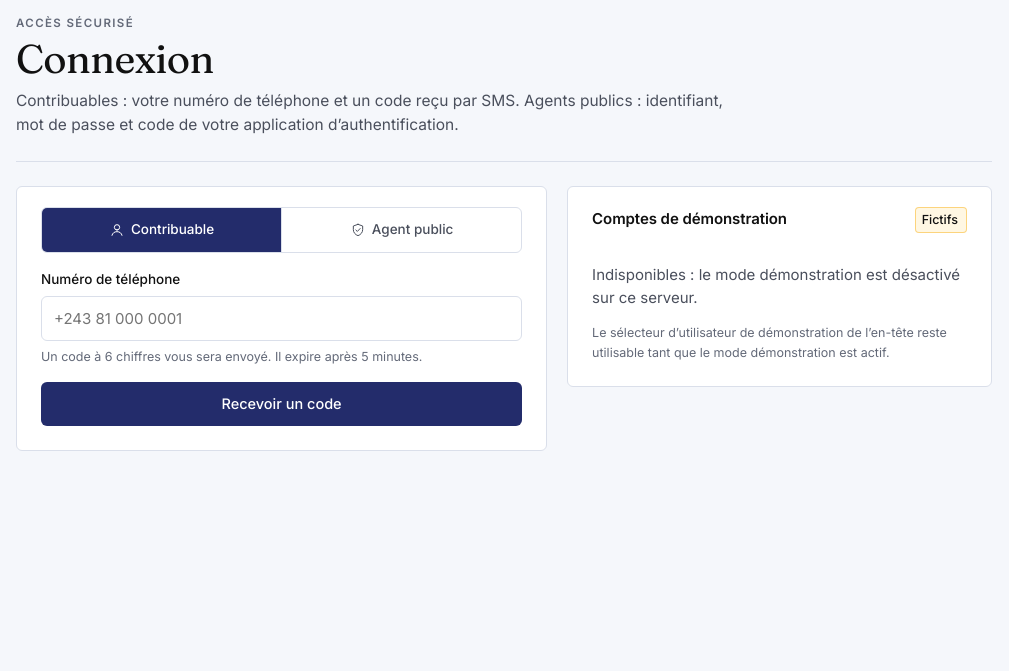
Test: Écran de connexion (socle) › agent : identifiant et mot de passe obligatoires avant le second facteur
The image size is (1009, 671).
Step 1. Click the button "Agent public" → (401, 230), box [281,208,521,252]
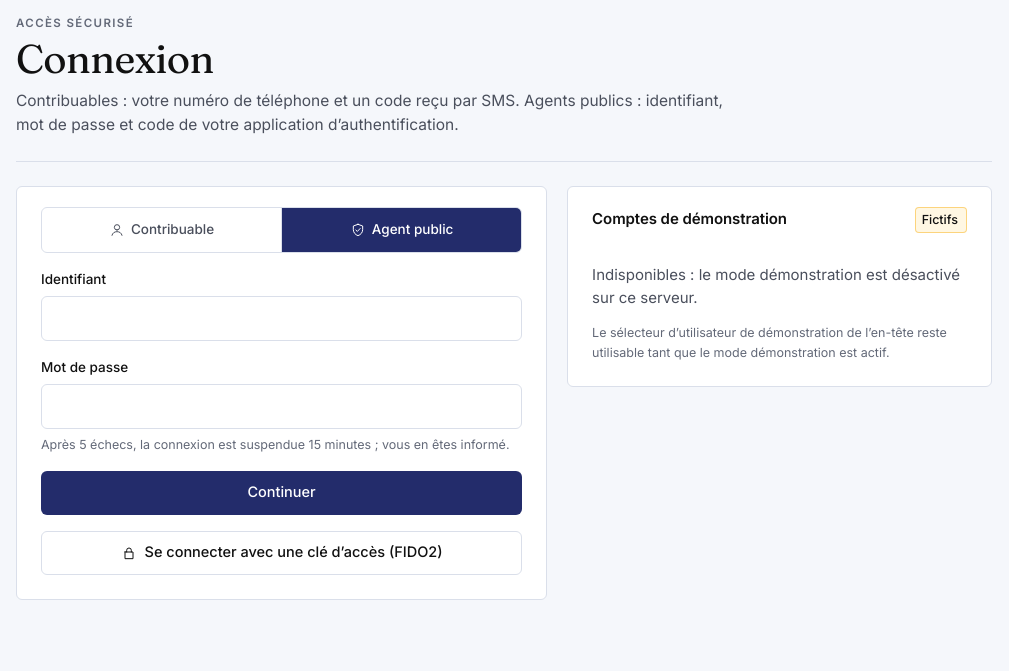
Step 2. Click the button "Continuer" → (282, 493), box [41,471,522,515]
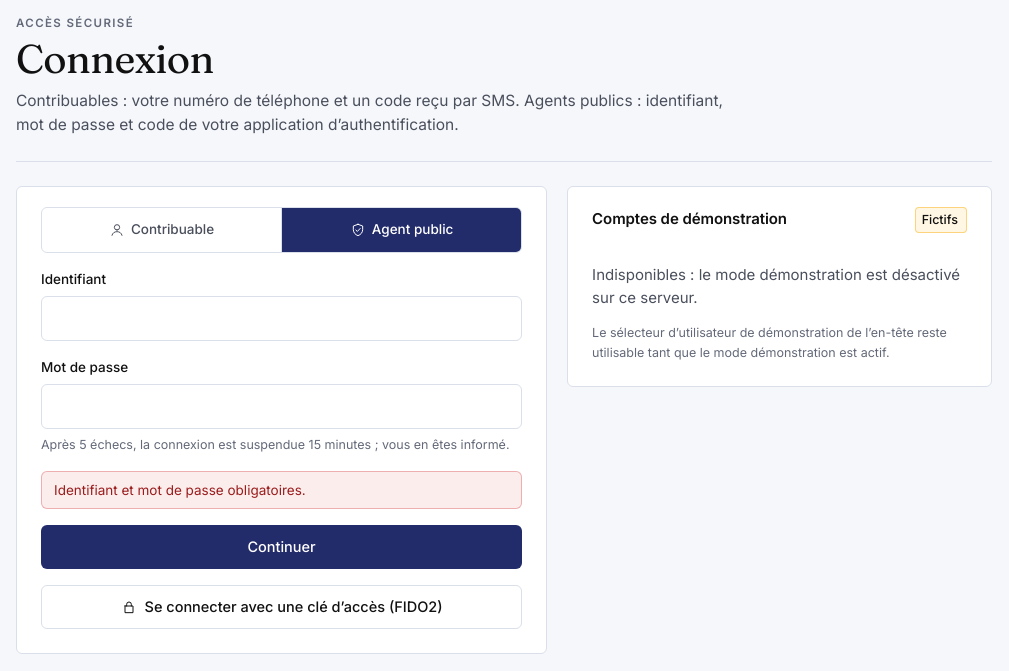
Expected: the text "mode démonstration est désactivé" is shown, [592,265,960,307]
Result: the text "Identifiant et mot de passe obligatoires." is shown at [41,471,522,510]
